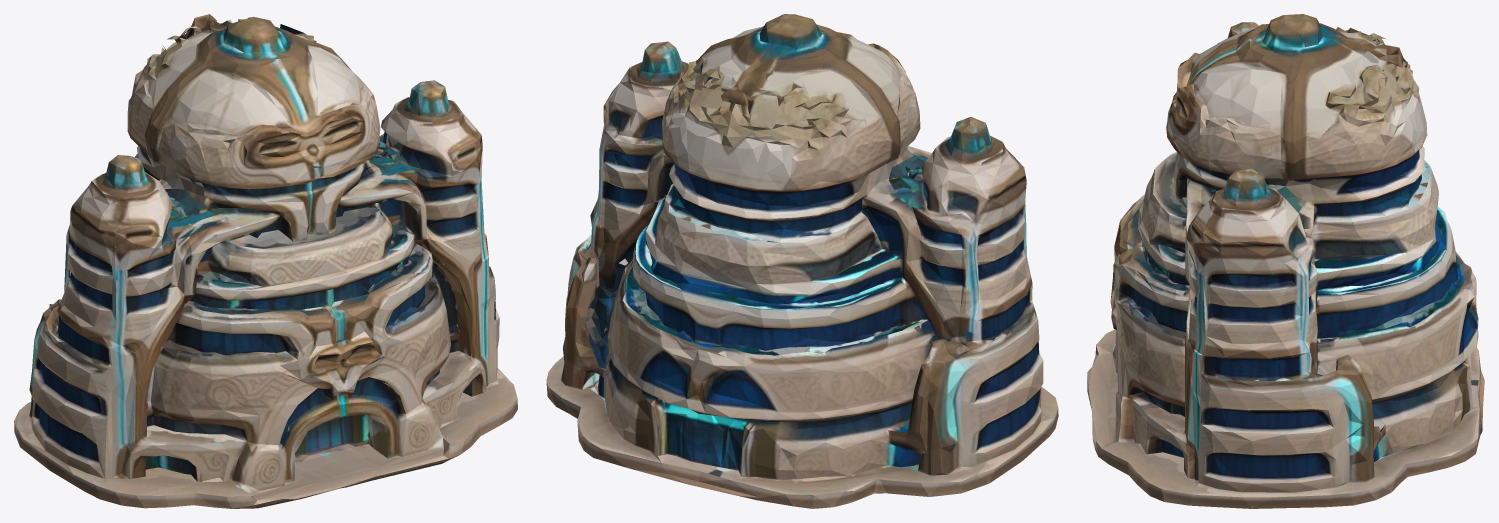
Rendered from dogu_city_tower_1116.glb.
3 views of the same model, side by side, from view 1: azimuth 30°, elevation 25°; view 2: azimuth 150°, elevation 25°; view 3: azimuth 270°, elevation 25° (orthographic). The views are drawn at different scales.
Visible parts, largest first — view 1: world; view 2: world; view 3: world.
Part boxes in pixels (x1,y1,x2,y2): world: [14, 14, 517, 508]; world: [546, 14, 1058, 508]; world: [1087, 14, 1484, 508].
Bounding box in the file's own units: 1.15 × 1 × 0.9177.
1 material, 1 textured.
